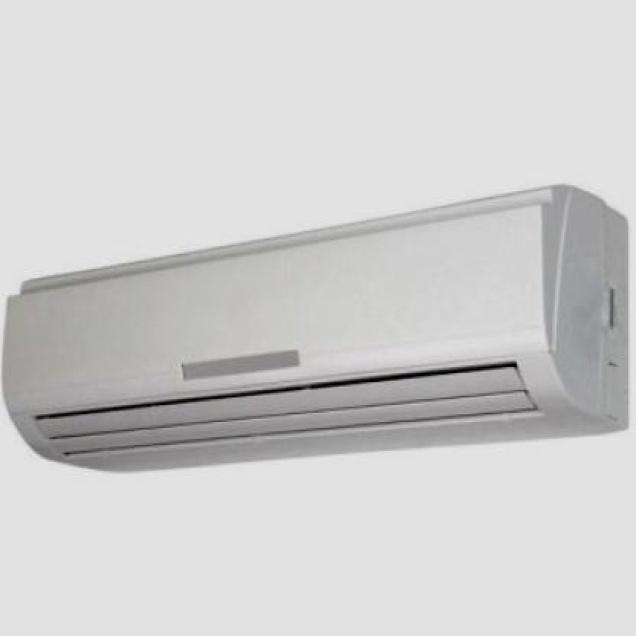AC: (0, 184, 627, 472)
